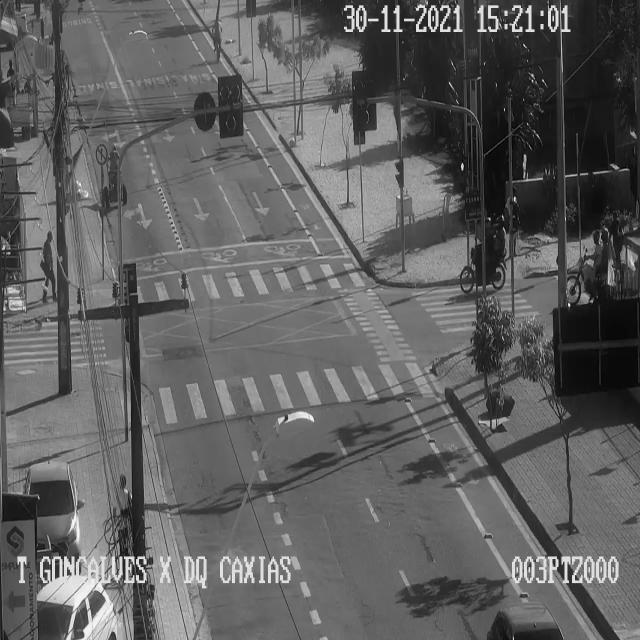Car: (24, 459, 84, 557), (36, 574, 116, 639)
Motorcycle: (567, 226, 617, 303), (460, 214, 507, 292)
